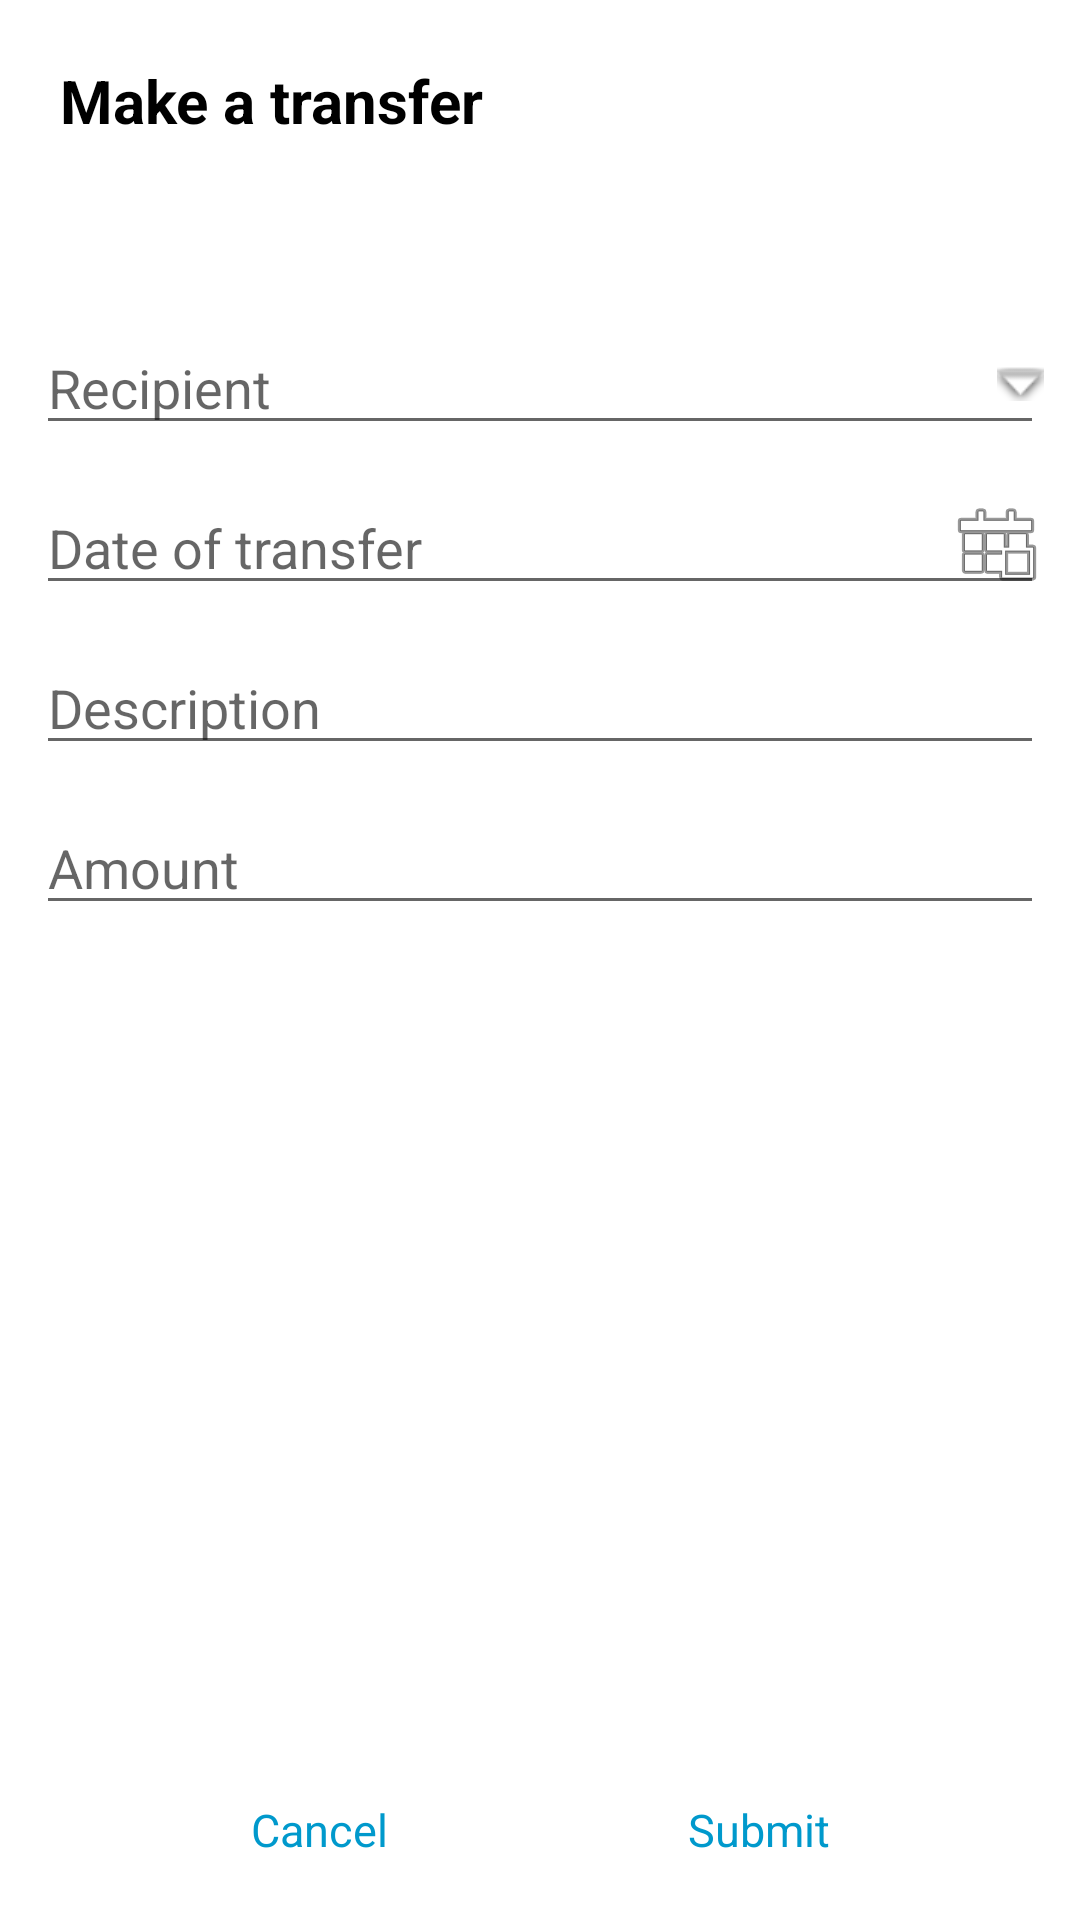

Icon bounding boxes for this 1080×1920 phone screenshot, format (x1, y1, x2, y2):
arrow down float: (997, 368, 1044, 400)
today: (948, 508, 1036, 581)
